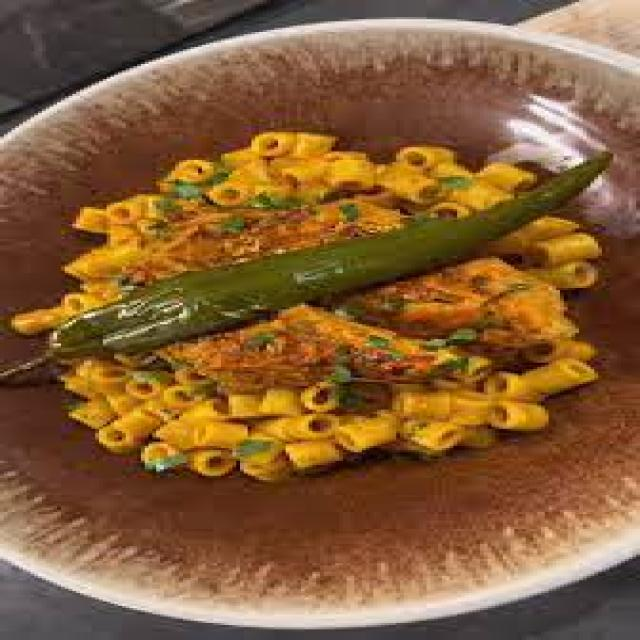Pasta: (27, 134, 590, 470)
